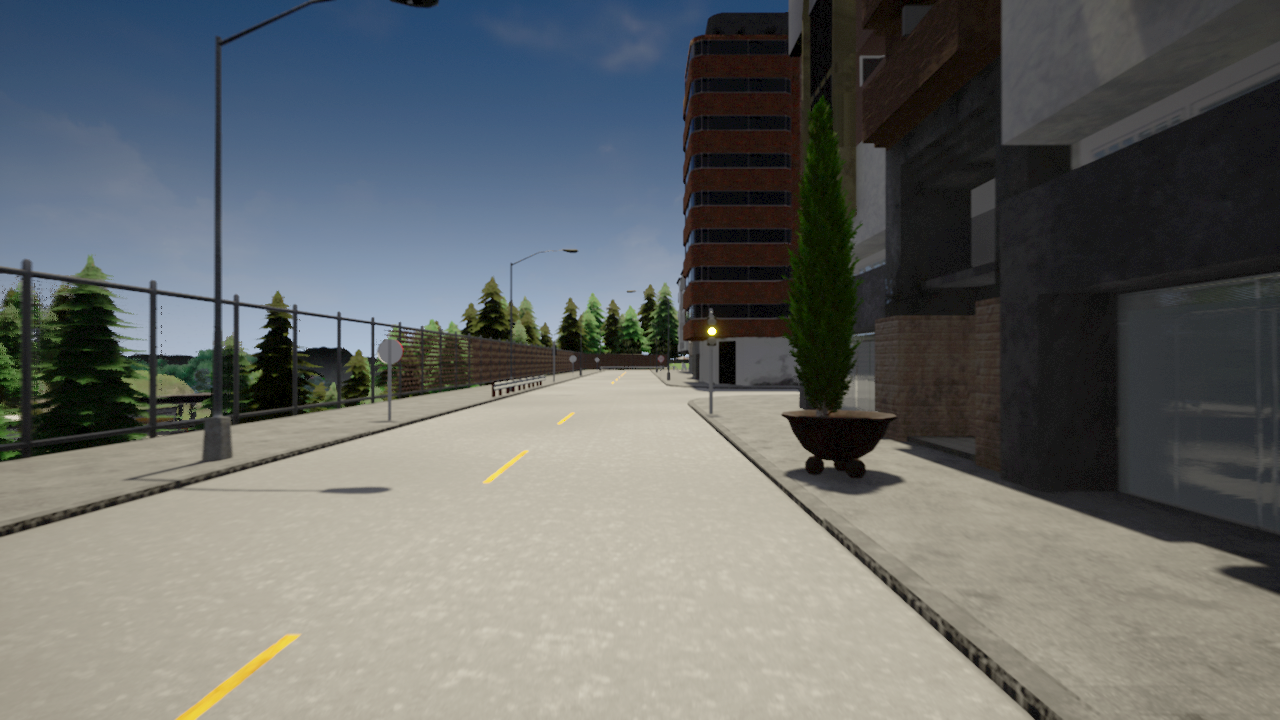yellow: (707, 314, 717, 346)
